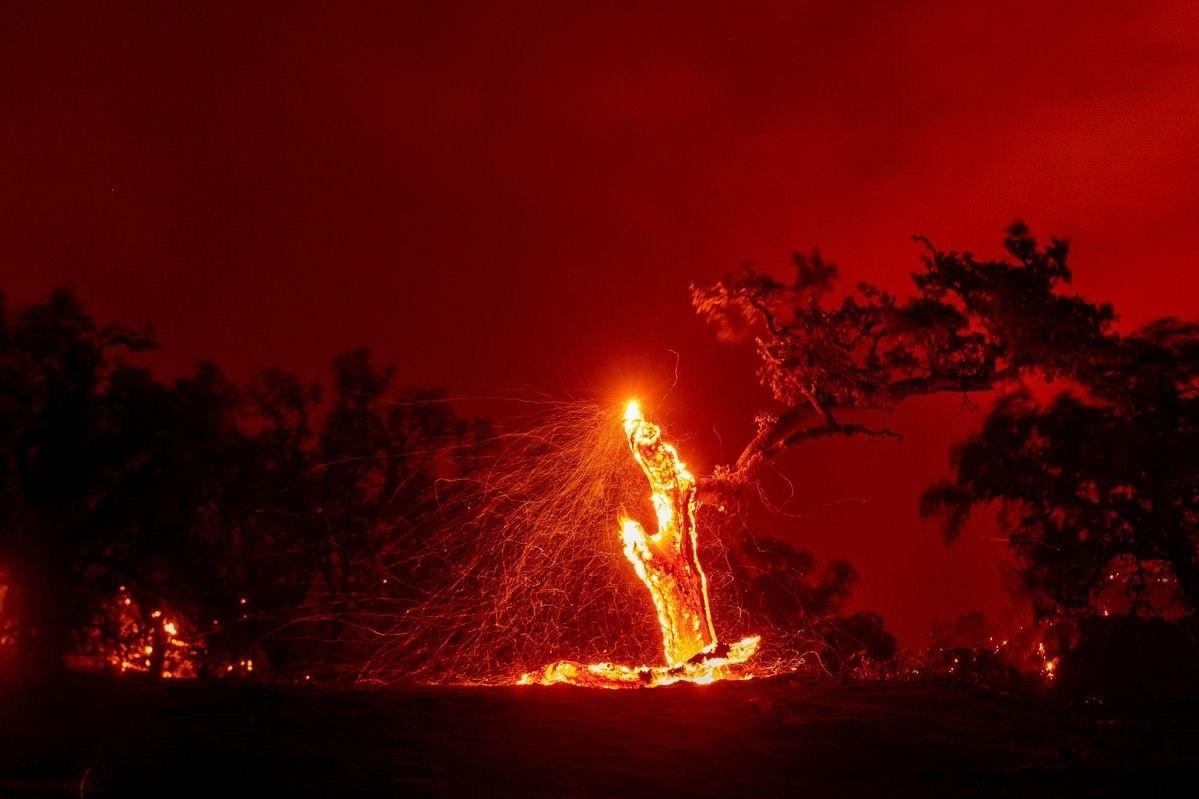fire: (588, 401, 773, 688), (81, 591, 211, 688), (1005, 614, 1075, 692)
